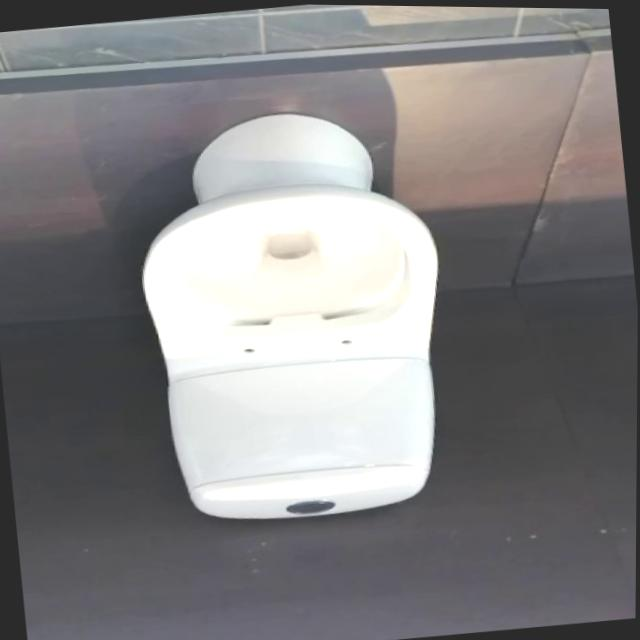toilet: (124, 96, 466, 534)
